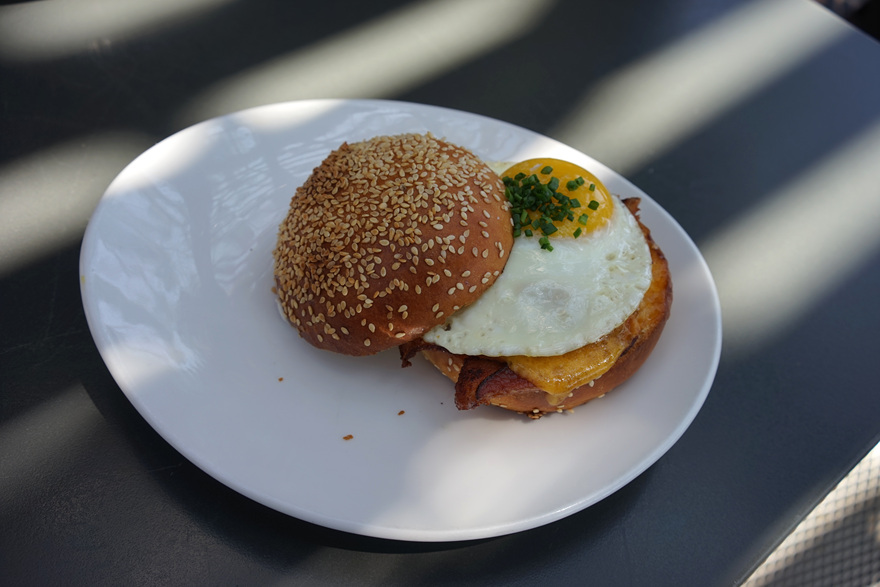fried egg: (462, 171, 635, 322)
slice of bread: (295, 146, 509, 326)
